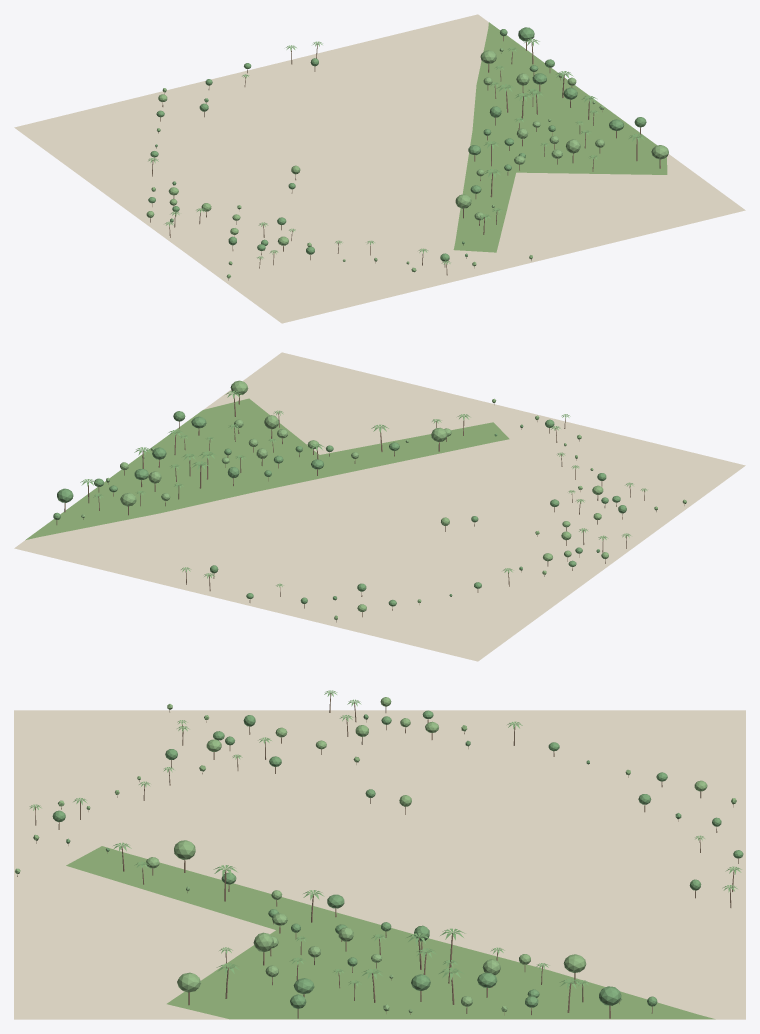
File: nature_1_5.glb
3 renders of one model, top to bottom at view 1: azimuth 30°, elevation 25°; view 2: azimuth 150°, elevation 25°; view 3: azimuth 270°, elevation 25°, orthographic. The views are drawn at different scales.
Parts seen in each view (by area): view 1: ground, grass, foliage_b, foliage_a, palm_leaf, trunk; view 2: ground, grass, foliage_b, foliage_a, palm_leaf, trunk; view 3: ground, grass, foliage_b, foliage_a, palm_leaf, trunk.
Part boxes in pixels (box(x1,y1,x2,y2)): ground: box(14, 14, 745, 323); grass: box(453, 22, 667, 252); foliage_b: box(146, 48, 668, 278); foliage_a: box(148, 27, 646, 261); palm_leaf: box(148, 38, 645, 264); trunk: box(150, 36, 660, 280); ground: box(14, 352, 745, 661); grass: box(25, 398, 509, 540); foliage_b: box(81, 380, 686, 620); foliage_a: box(53, 411, 626, 606); palm_leaf: box(80, 390, 647, 587); trunk: box(56, 395, 684, 622); ground: box(14, 710, 745, 1019); grass: box(66, 846, 715, 1019); foliage_b: box(15, 697, 736, 1012); foliage_a: box(52, 710, 743, 1008); palm_leaf: box(29, 690, 741, 988); trunk: box(17, 693, 738, 1018).
Bounding box in the file's own units: 254 × 13.22 × 250.
